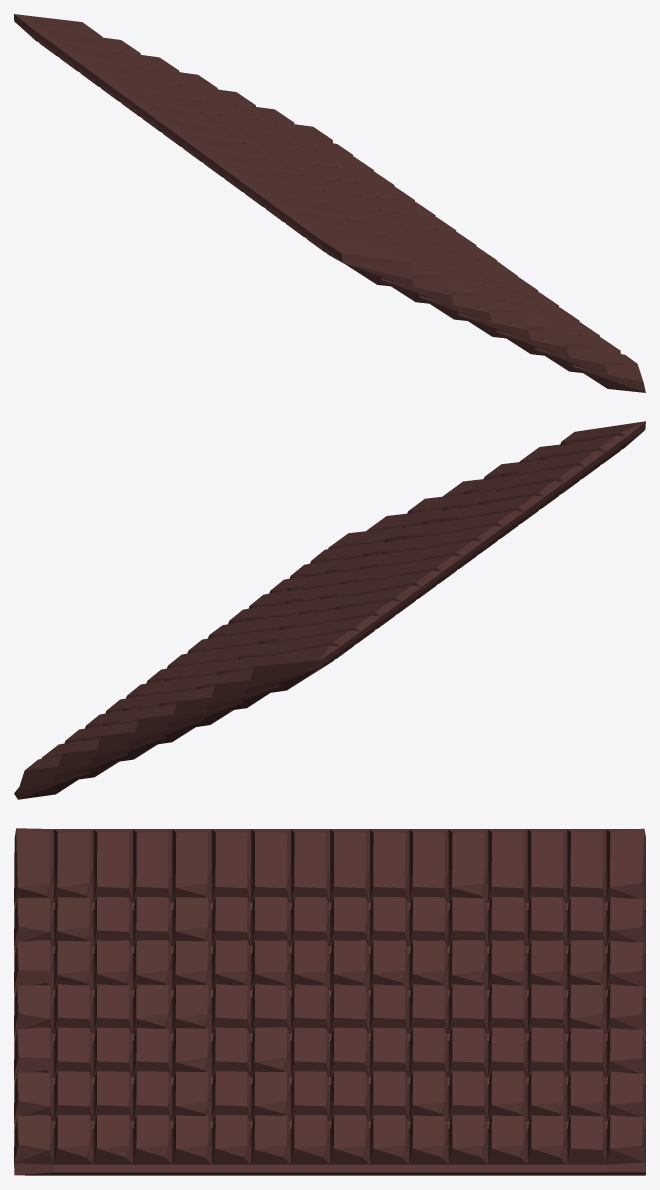
File: Telhado.fbx
The picture shows the model from 3 angles, top to bottom: view 1: azimuth 30°, elevation 25°; view 2: azimuth 150°, elevation 25°; view 3: azimuth 270°, elevation 25°; orthographic projection. The views are drawn at different scales.
Visible parts, largest first — view 1: Telhado; view 2: Telhado; view 3: Telhado.
Boxes of the visible parts, x1,y1,x2,y2 form: Telhado: [14, 14, 645, 392]; Telhado: [14, 421, 645, 799]; Telhado: [14, 828, 645, 1175].
Bounding box in the file's own units: 919 × 612 × 1705.
